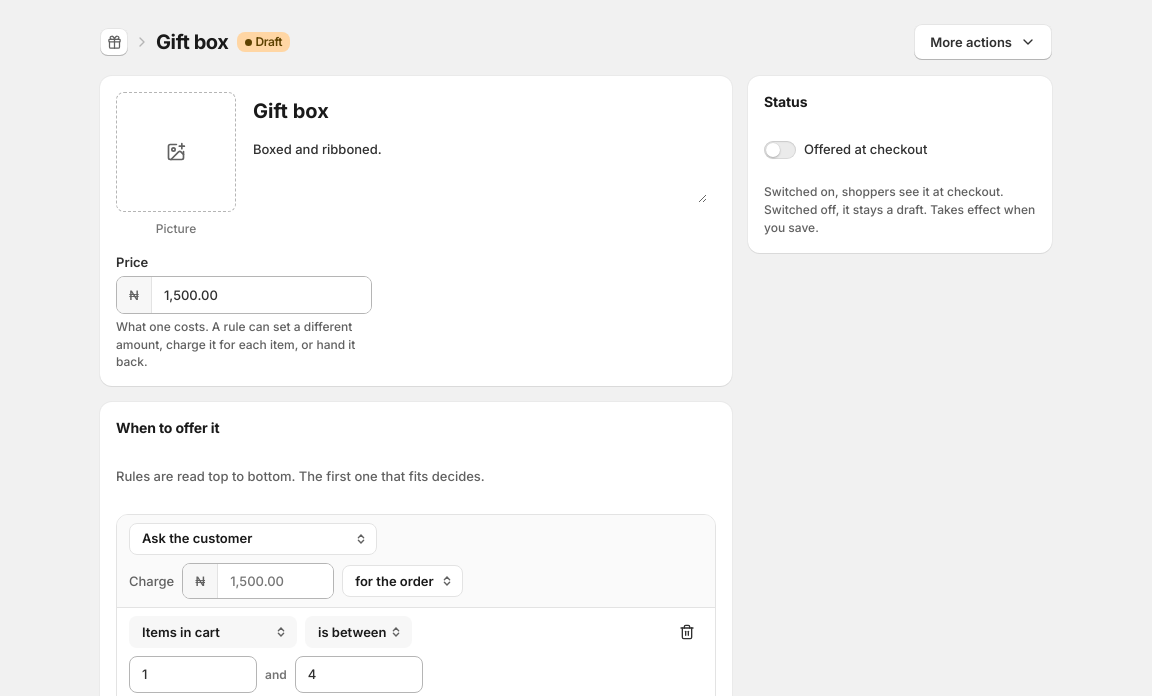
Test: AddOnDetail › a stale save shows the conflict banner and does not lie about saving
Type "!" into the field named "name" at (476, 112), box [244, 92, 708, 131]
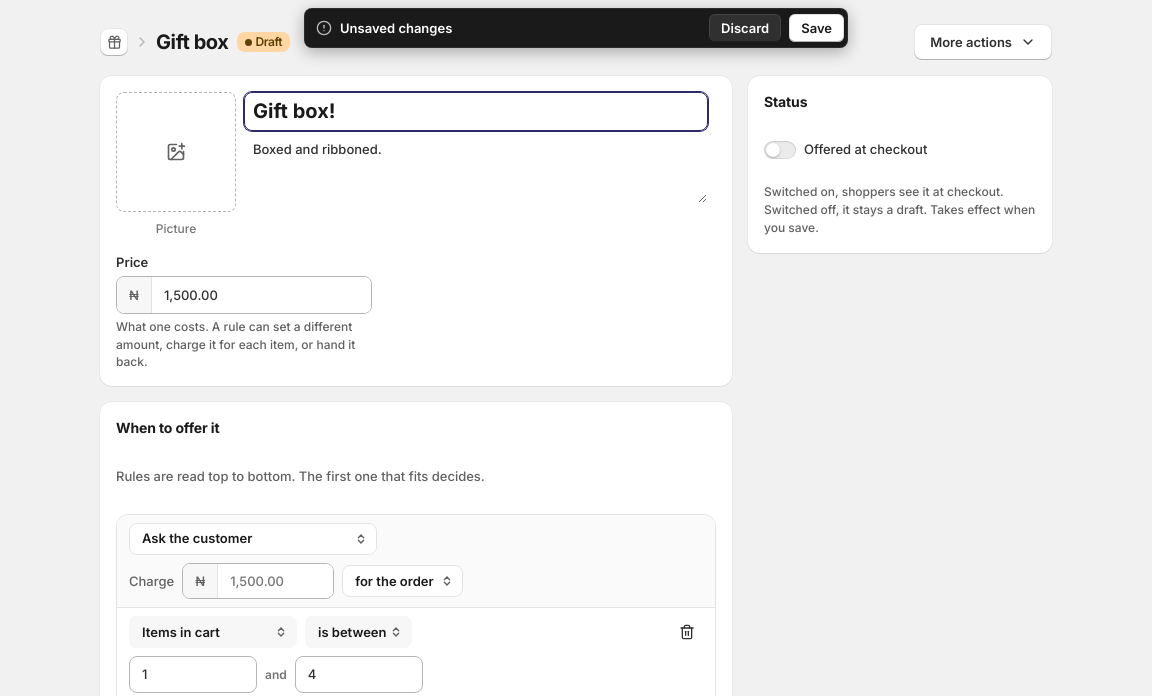
Click the button "Save" at (817, 28), box [789, 14, 844, 42]
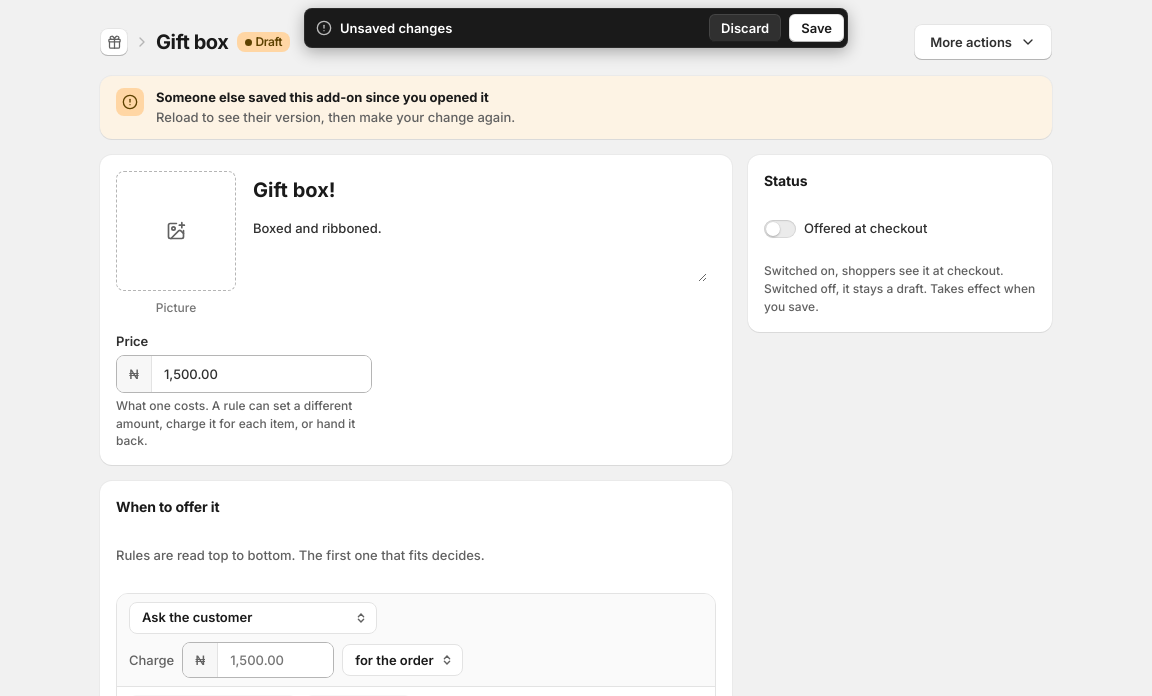
Expected: the text "Someone else saved this add-on since you opened it" is shown, [156, 89, 489, 105]
